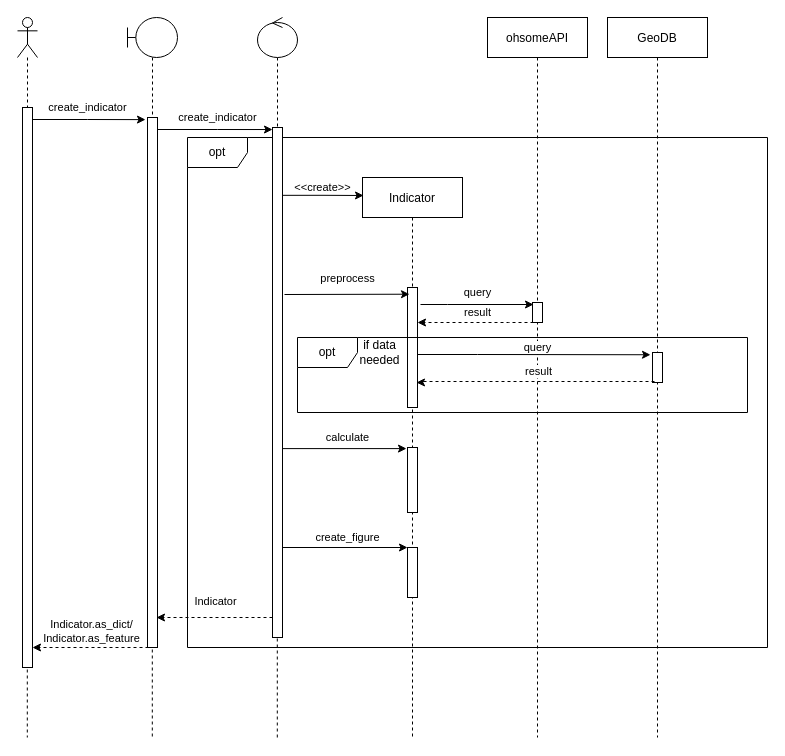
Some shapes in this 785 by 756 pixel diagram are drawn without their labels. Here are the shapes that lost their labels. From the top down, the centre of each, then its label:
At point (152, 37): "API".
At point (277, 37): "oqt.py".
